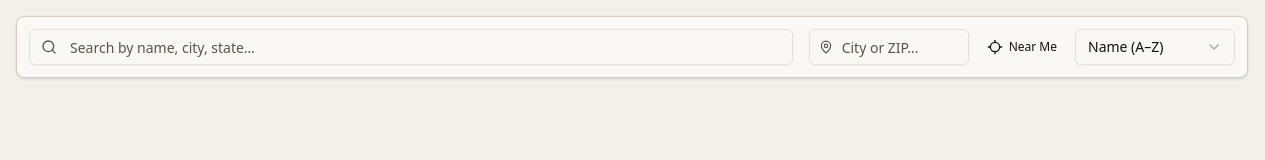
Test: SearchHeader › should show autocomplete suggestions as the user types
This screenshot has width=1265, height=160.
Type "Denv" into the dropdown named "Search by location" at {"x": 889, "y": 47}, box [809,29,969,65]
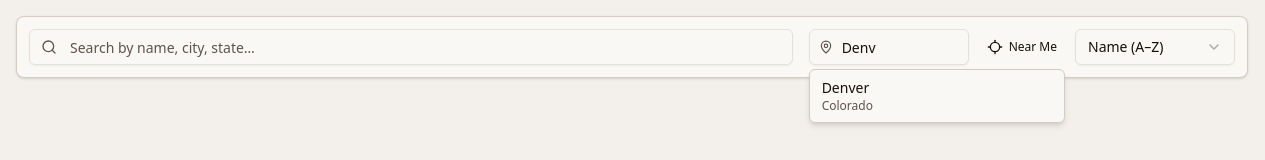
Check: the text "Denver" is shown, box [822,78,869,97]
